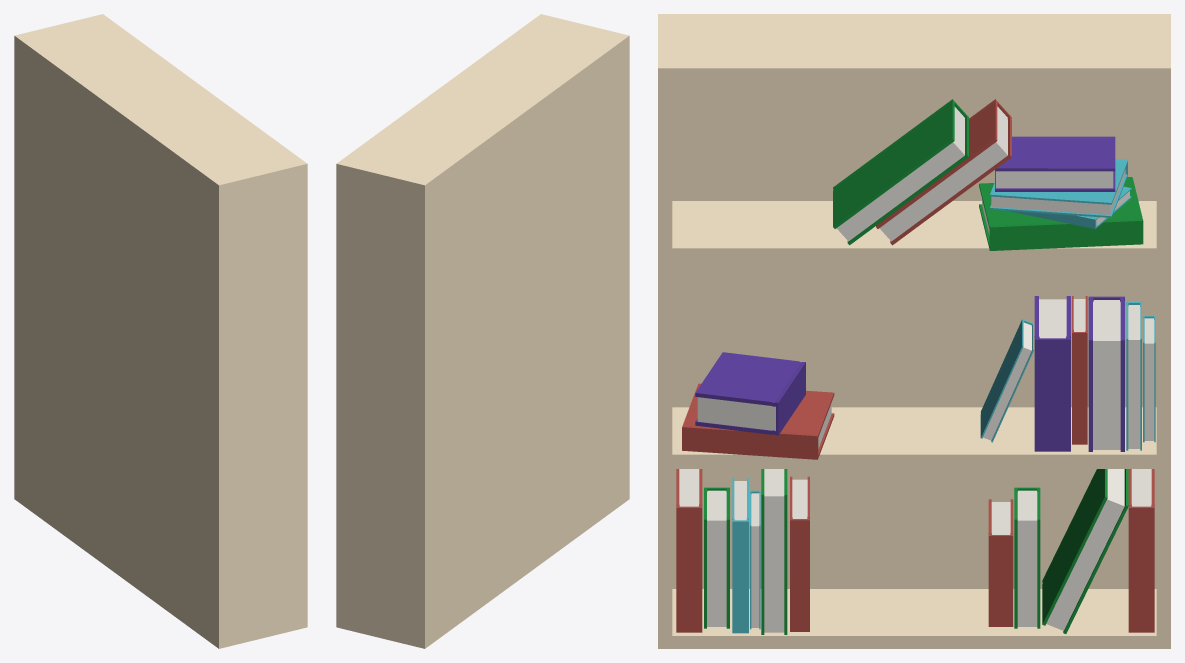
The model's file is BookshelfModel.fbx.
3 renders of one model, left to right at view 1: azimuth 30°, elevation 25°; view 2: azimuth 150°, elevation 25°; view 3: azimuth 270°, elevation 25°, orthographic. The views are drawn at different scales.
Visible parts, largest first — view 1: Cube.055; view 2: Cube.055; view 3: Cube.055.
Part boxes in pixels (x1=…): Cube.055: x1=14, y1=14, x2=307, y2=648; Cube.055: x1=336, y1=14, x2=629, y2=648; Cube.055: x1=658, y1=14, x2=1170, y2=648.
Size of the model in its own units: 112 by 500 by 400.
